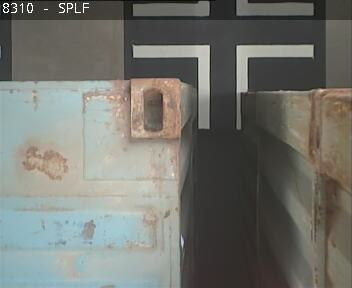groundmarker_1: (133, 44, 312, 129)
